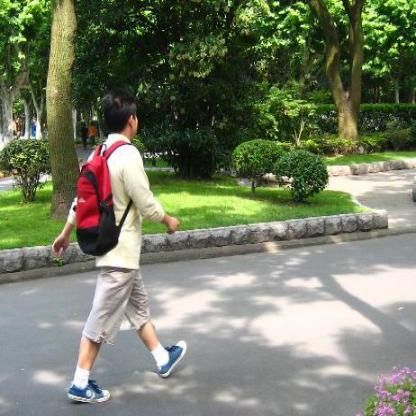person: (44, 86, 190, 404)
